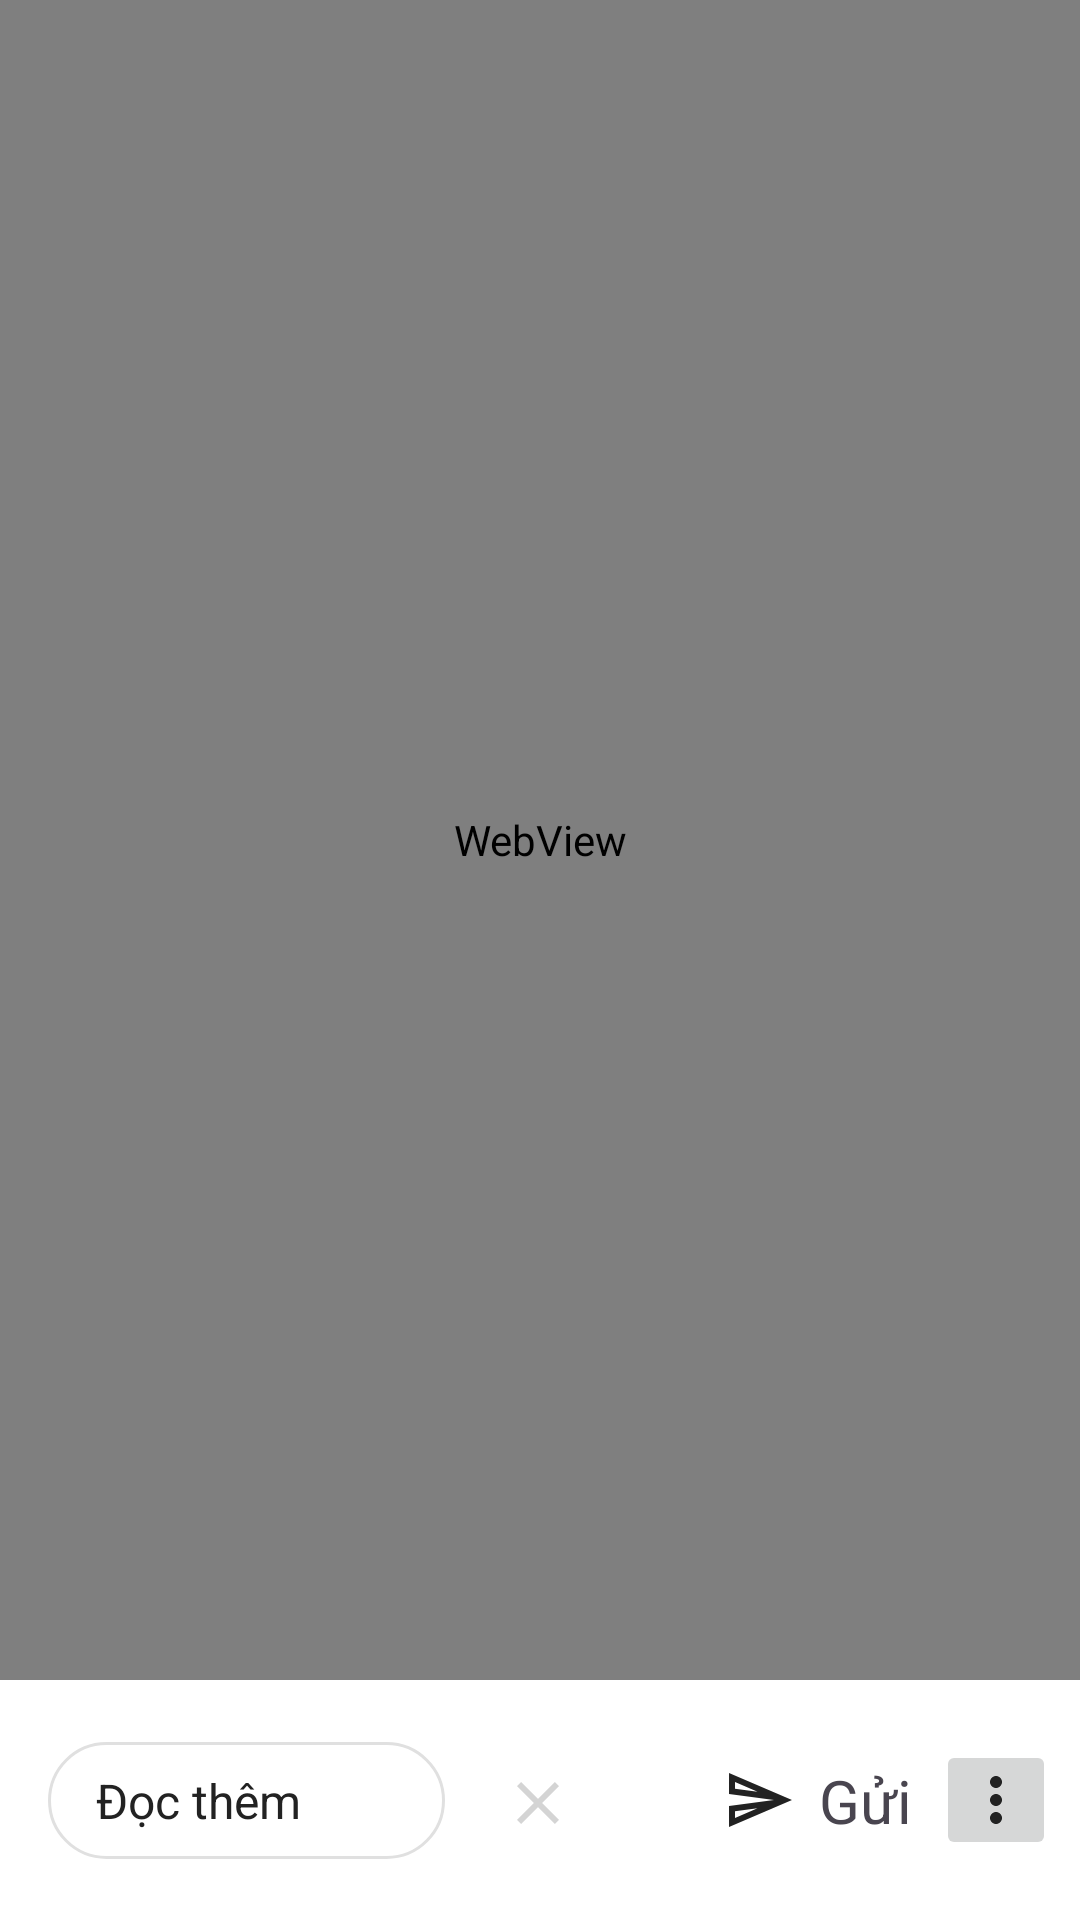

Screen size 1080w x 1920h. Icon name, then its center in pixels as (x=x, y=y):
Button close: (x=538, y=1803)
image send: (x=760, y=1800)
